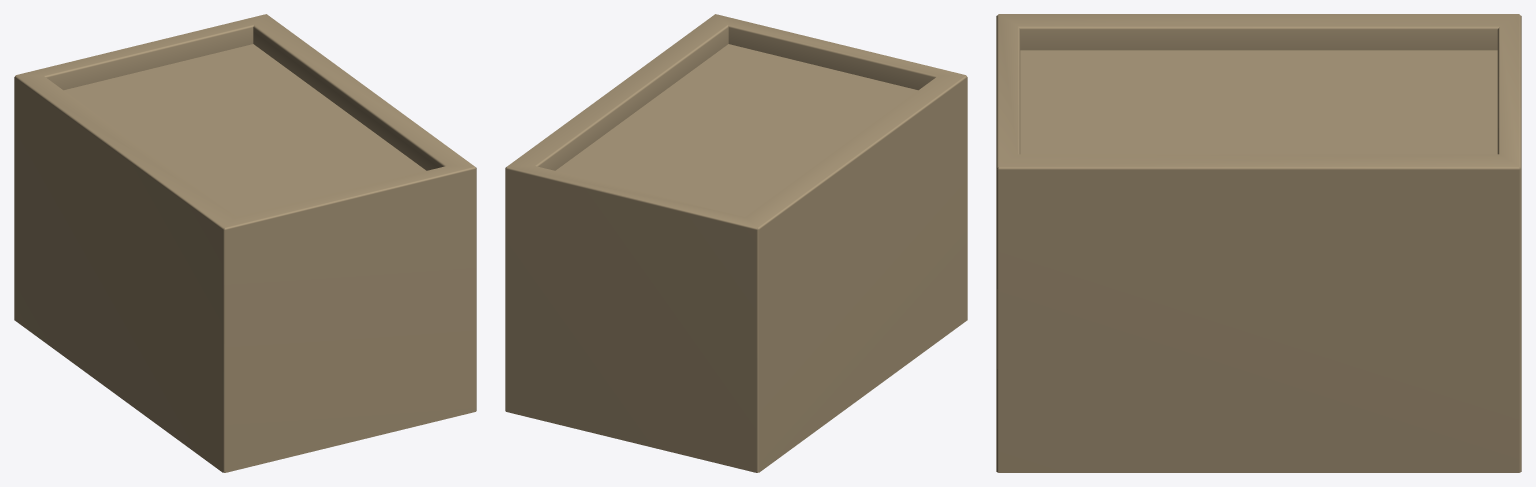
3 views of the same model, side by side, from view 1: azimuth 30°, elevation 25°; view 2: azimuth 150°, elevation 25°; view 3: azimuth 270°, elevation 25° (orthographic). The views are drawn at different scales.
Visible parts, largest first — view 1: polySurface105; view 2: polySurface105; view 3: polySurface105.
Boxes of the visible parts, x1,y1,x2,y2 form: polySurface105: [14, 14, 476, 472]; polySurface105: [505, 14, 967, 472]; polySurface105: [996, 14, 1521, 472].
Size of the model in its own units: 670 by 616 by 961.
